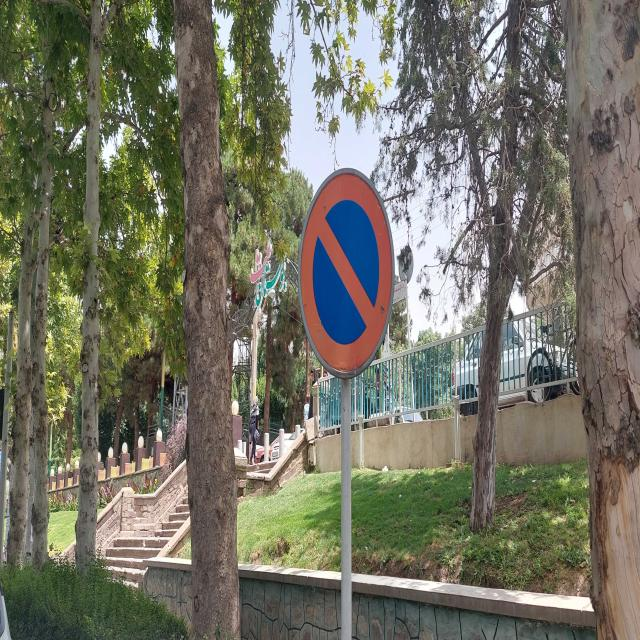forb_stopping: (298, 166, 396, 380)
